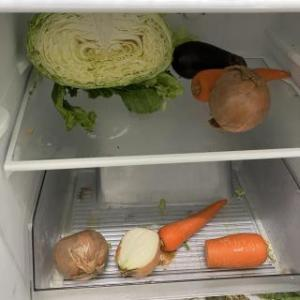cabbage: (23, 6, 176, 106)
carrot: (158, 197, 228, 253), (190, 68, 292, 104), (203, 232, 271, 270)
eggplant: (173, 39, 249, 81)
onion: (206, 64, 272, 136), (52, 226, 112, 284), (114, 225, 162, 279)
